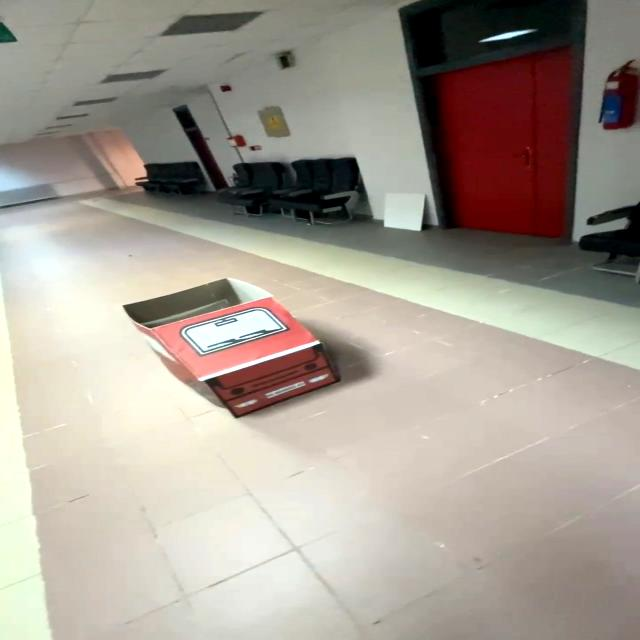red_car: (109, 268, 387, 439)
